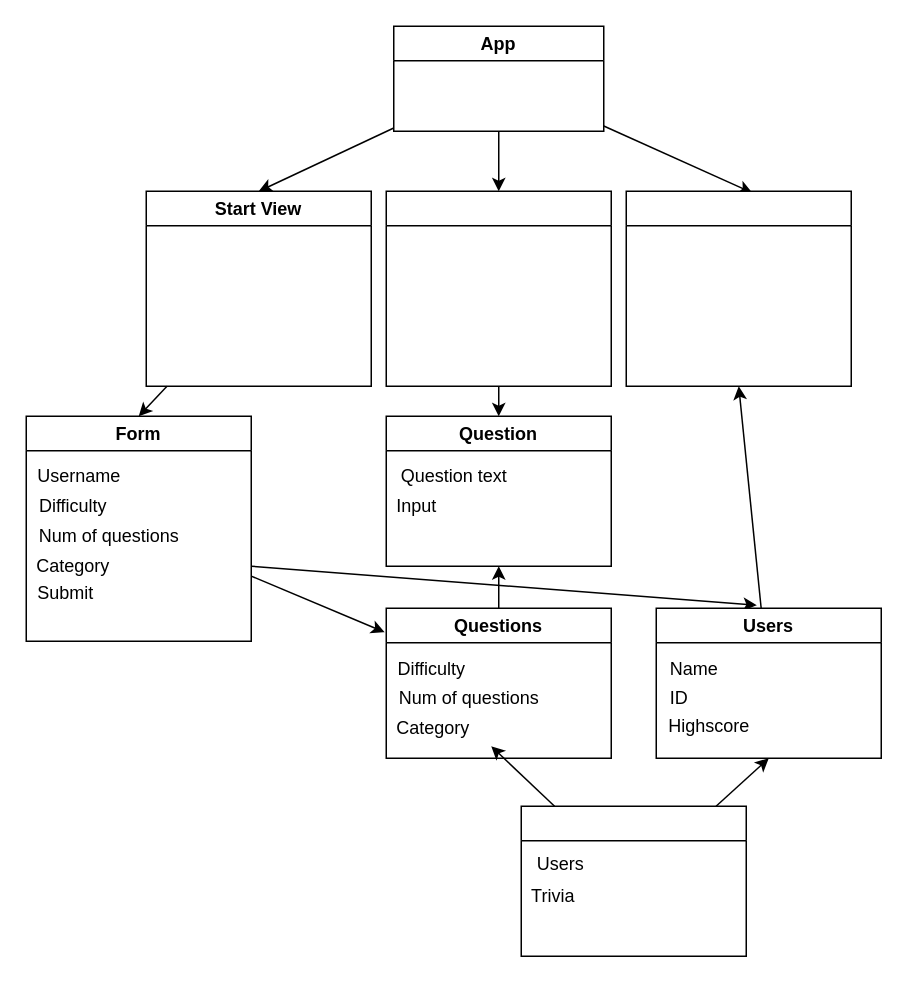
This 908x983 diagram has some shape labels left out. The shapes that lost their labels are listed below. From the top down, each one's box as (x1, y1, x2, y2) in pixels, then its label:
(385, 190, 611, 386): Trivia View
(625, 190, 851, 386): Result View
(520, 805, 746, 956): Global API
